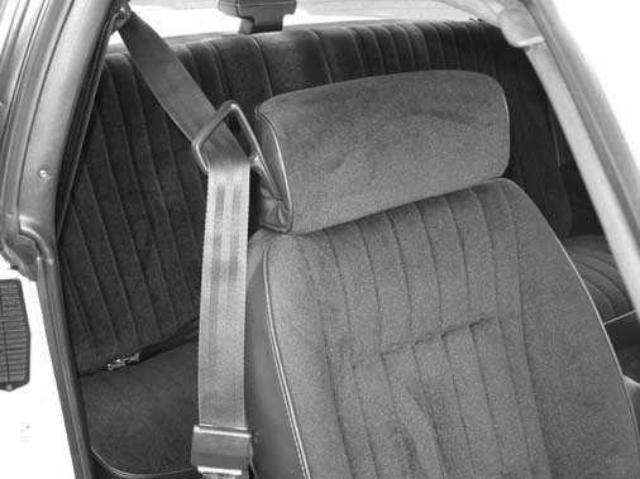Seatbelt: (110, 5, 260, 479)
